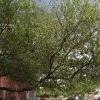Tree: (25, 2, 100, 86)
